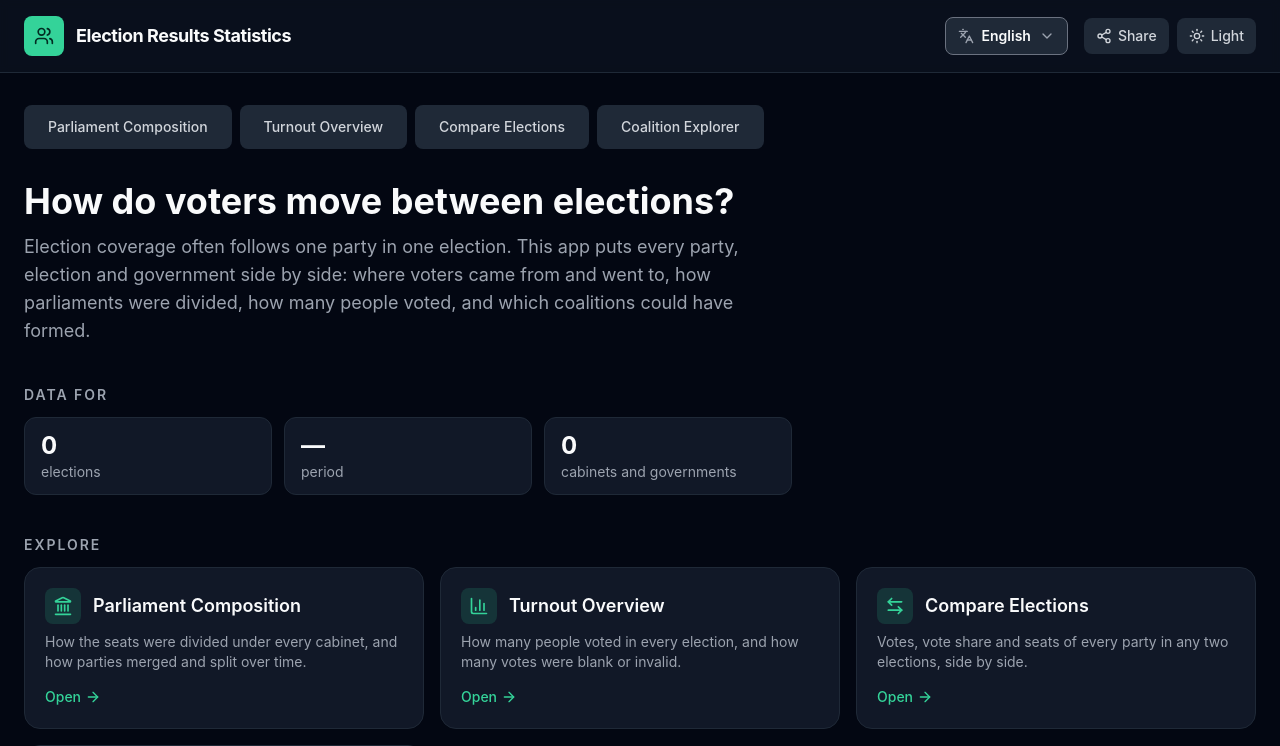
Test: App › switches the language and the theme
The width and height of the screenshot is (1280, 746).
Click the dropdown named "Language". click: (1006, 36)
box: [944, 17, 1068, 55]
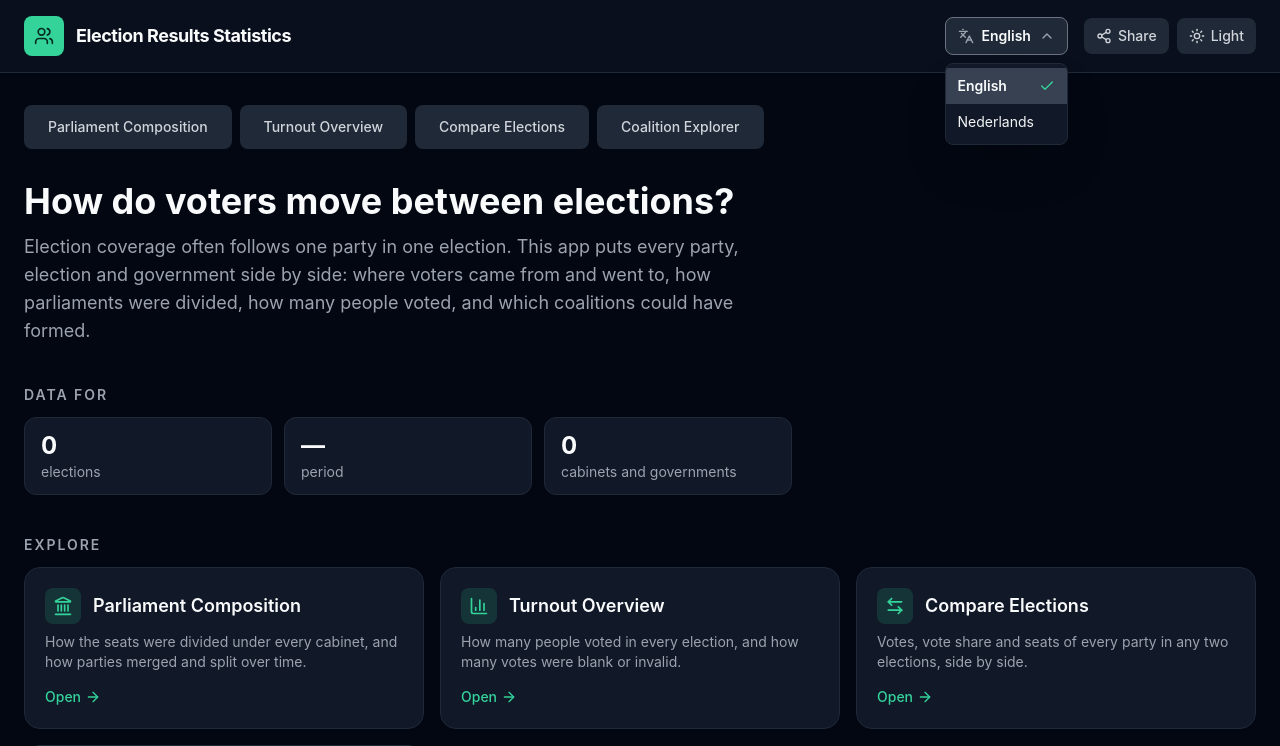
Click the option "Nederlands". click: (996, 122)
box: [958, 113, 1034, 130]
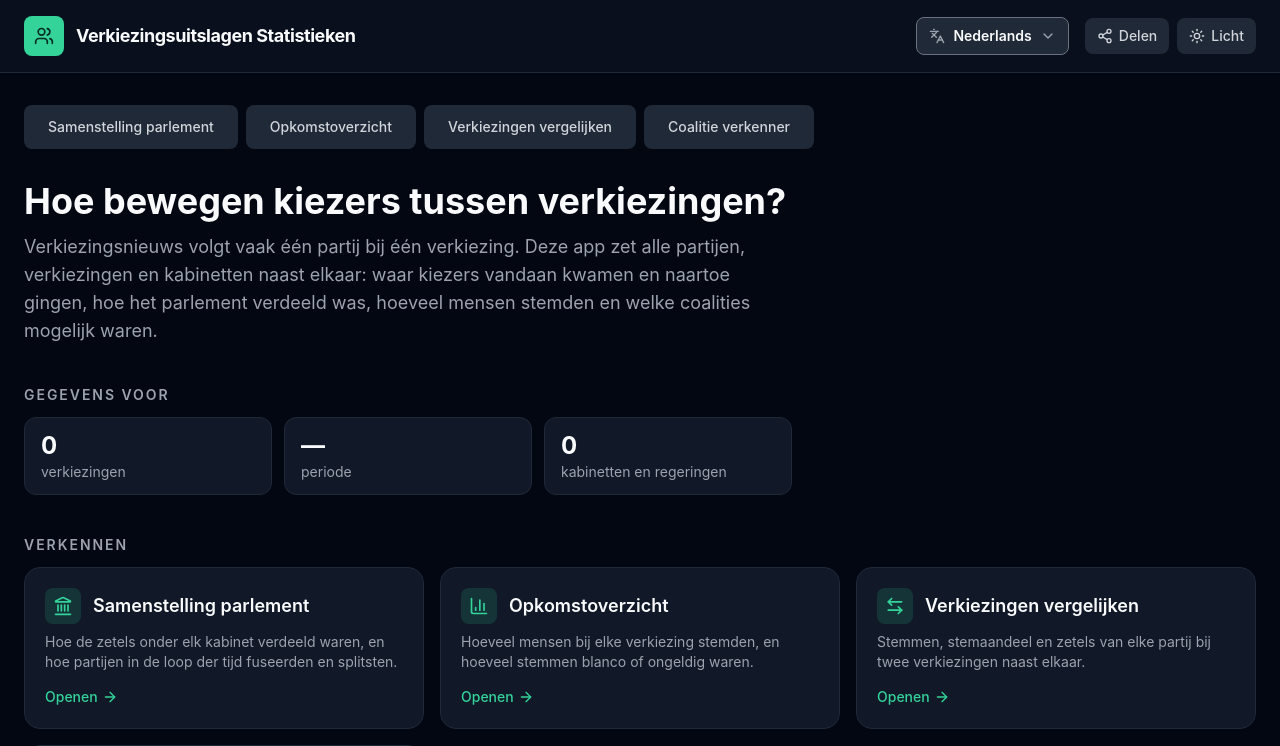
Expected: the heading "Hoe bewegen kiezers tussen verkiezingen?" is shown, [24, 181, 792, 221]
Click the button "Licht". click: (1217, 36)
box: [1177, 18, 1256, 54]
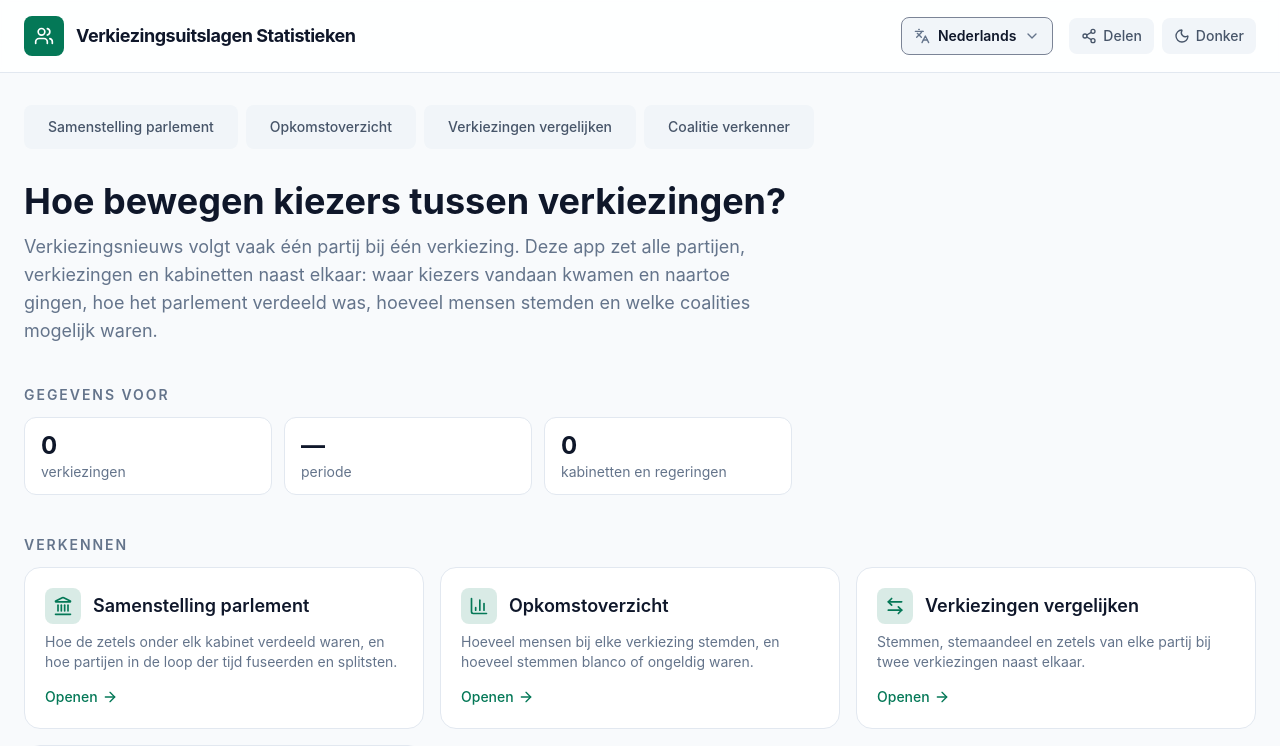
Expected: the button "Donker" is shown, [1162, 18, 1256, 54]
